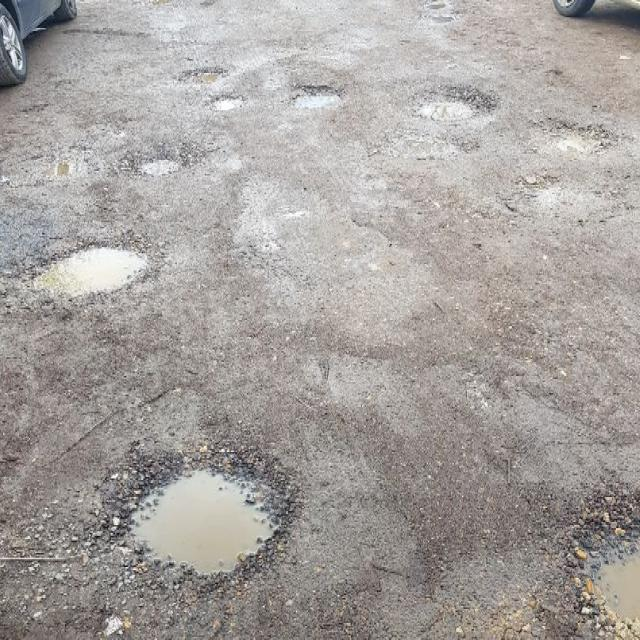Pothole: (103, 420, 304, 599), (24, 222, 161, 314), (413, 74, 498, 136), (132, 136, 188, 180), (292, 74, 349, 116)
